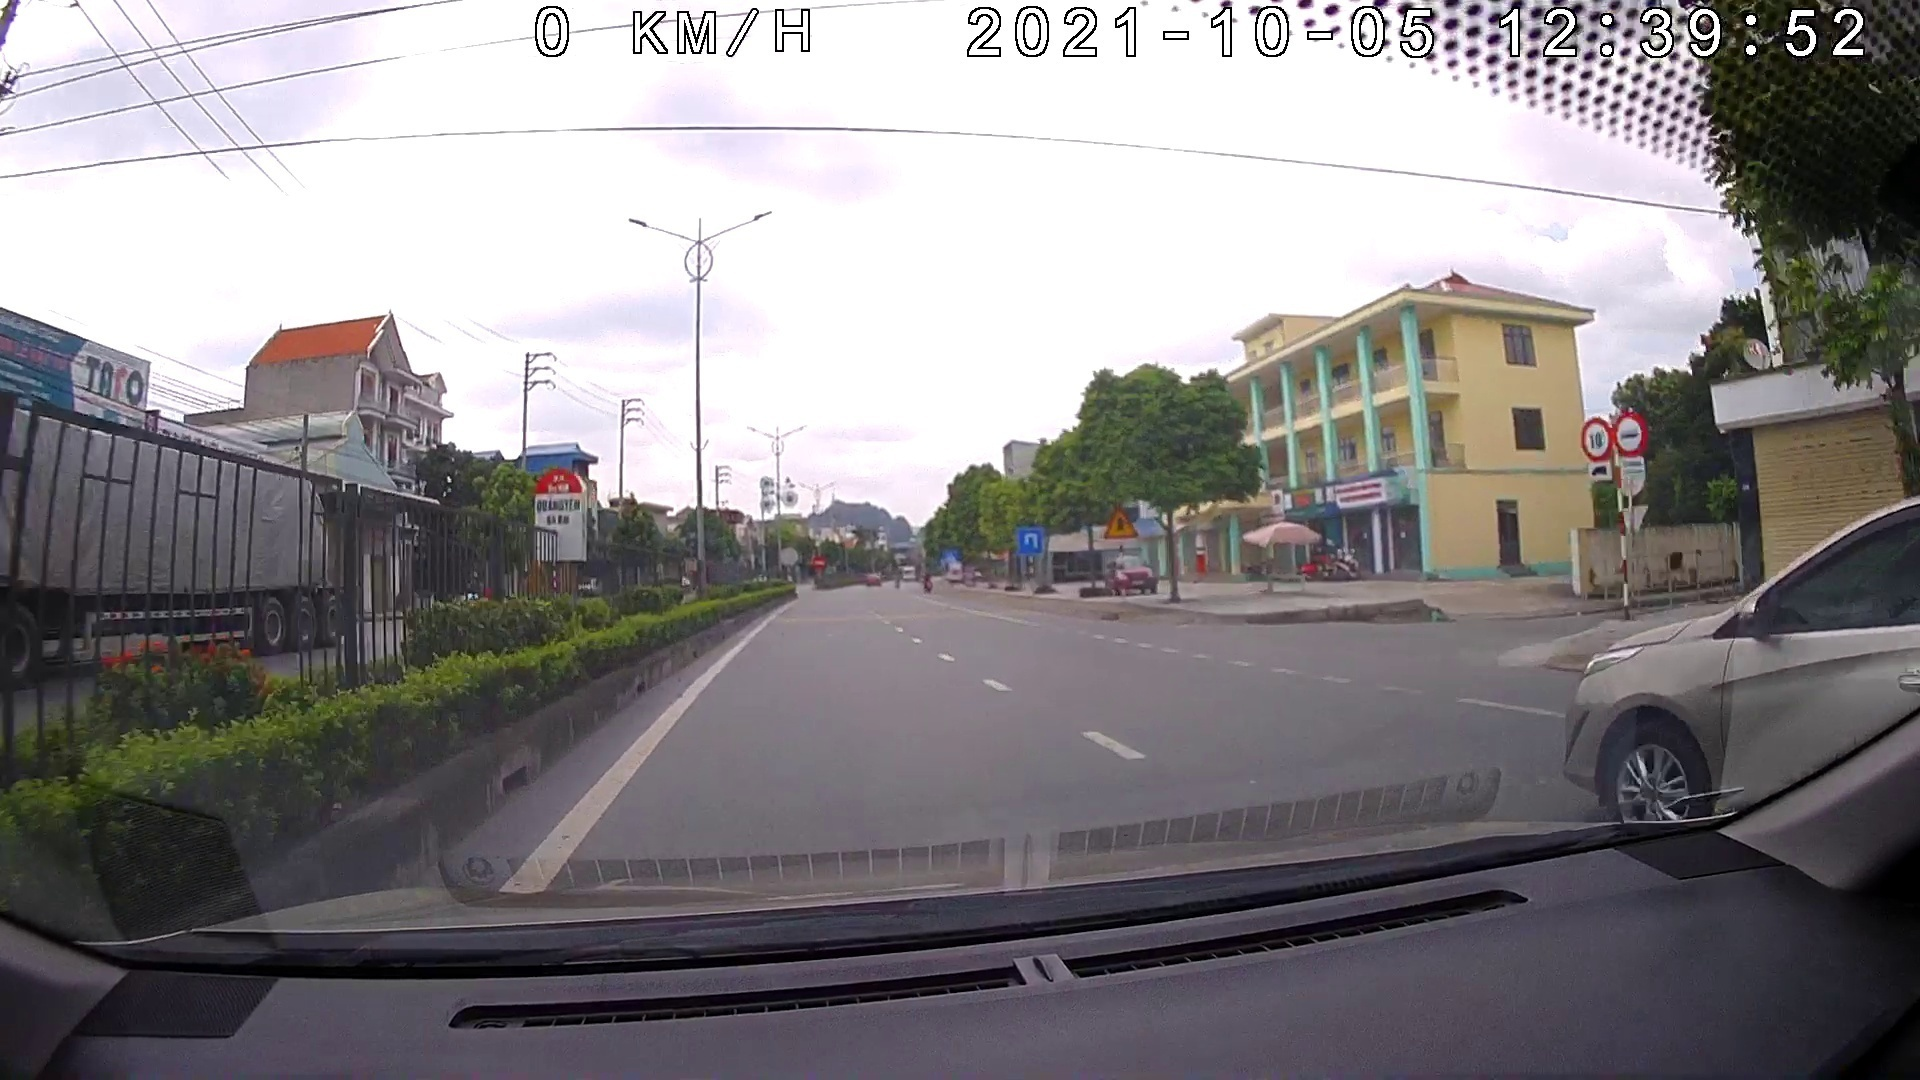Bien khac: (1614, 411, 1642, 460), (1580, 415, 1606, 462), (1017, 524, 1039, 555)
Cam di nguoc chieu: (810, 555, 823, 572)
Giao nhau voi duong khong uu tien: (1102, 505, 1135, 541)
